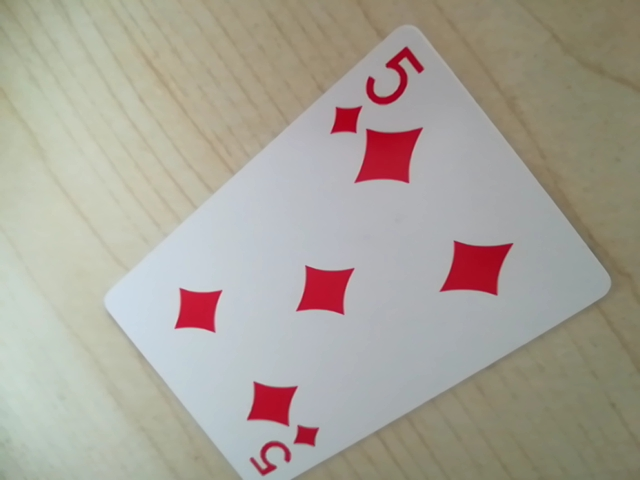fk 5: (337, 43, 425, 144), (240, 422, 322, 480)
